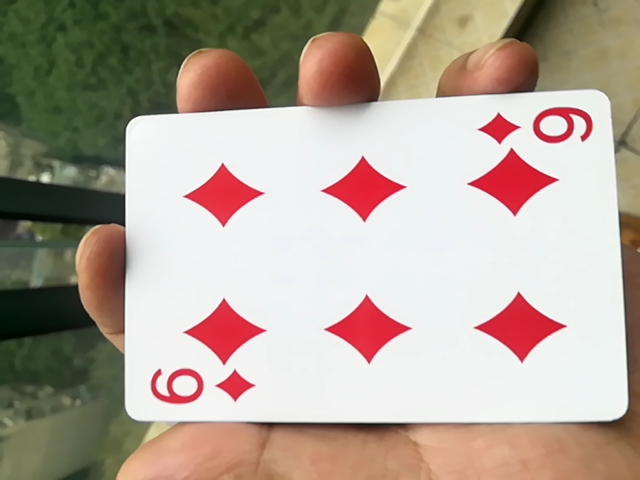fk 6: (101, 105, 625, 441)
